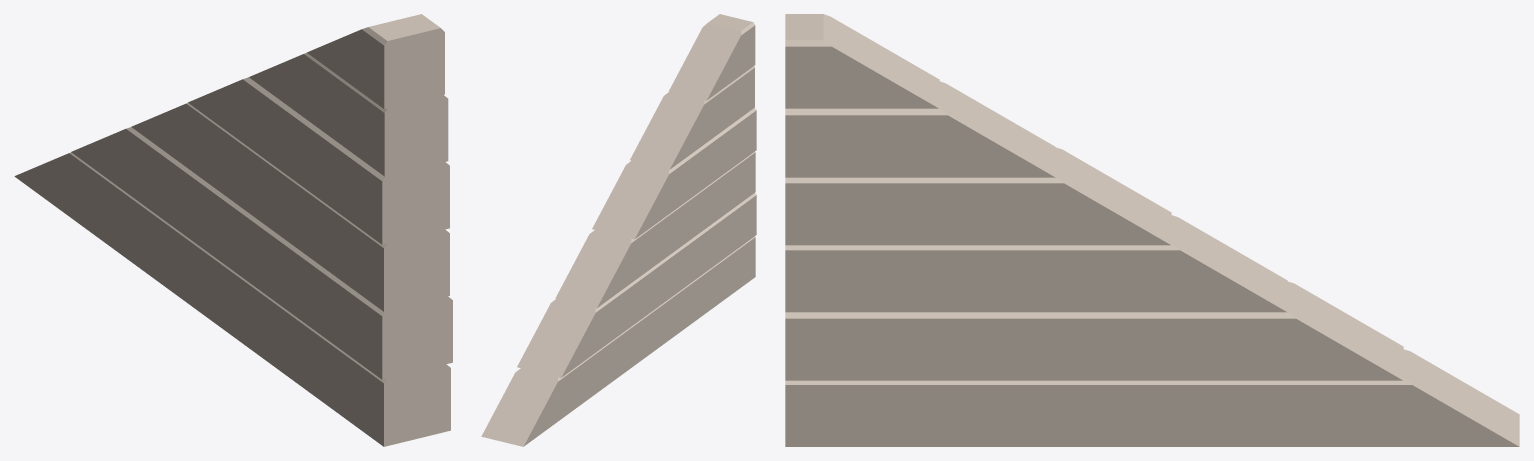
File: UpperWall01_house01.fbx
The picture shows the model from 3 angles, left to right: view 1: azimuth 30°, elevation 25°; view 2: azimuth 150°, elevation 25°; view 3: azimuth 270°, elevation 25°; orthographic projection. The views are drawn at different scales.
Visible parts, largest first — view 1: UpperWall01_house01; view 2: UpperWall01_house01; view 3: UpperWall01_house01.
Part boxes in pixels (x1,y1,x2,y2): UpperWall01_house01: (14,14,452,446); UpperWall01_house01: (481,14,756,446); UpperWall01_house01: (785,14,1519,446).
Bounding box in the file's own units: 54.76 × 300 × 496.
